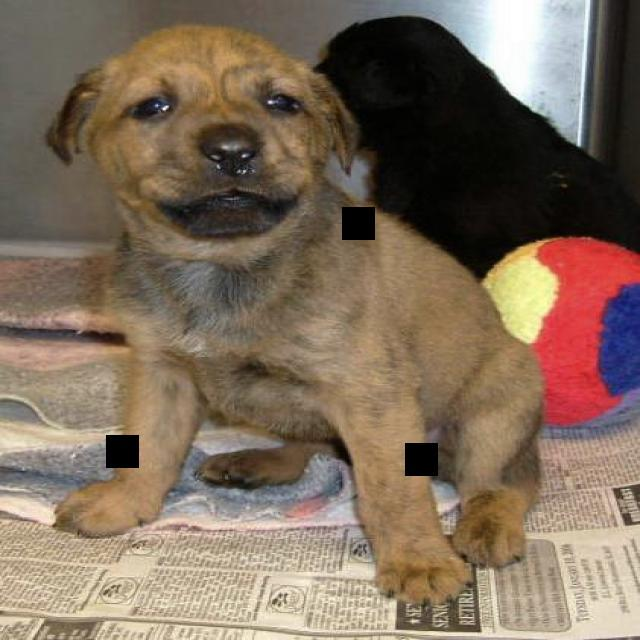puppy-dog: (48, 27, 549, 610), (317, 14, 640, 286)
